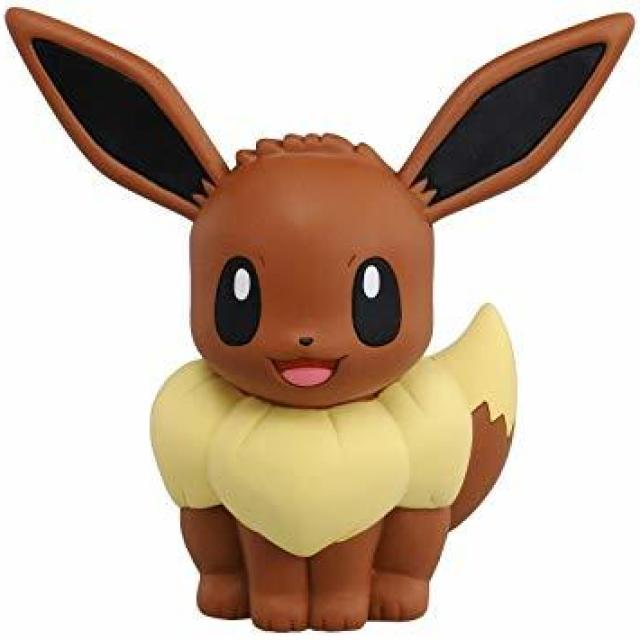Eevee: (135, 112, 533, 626)
